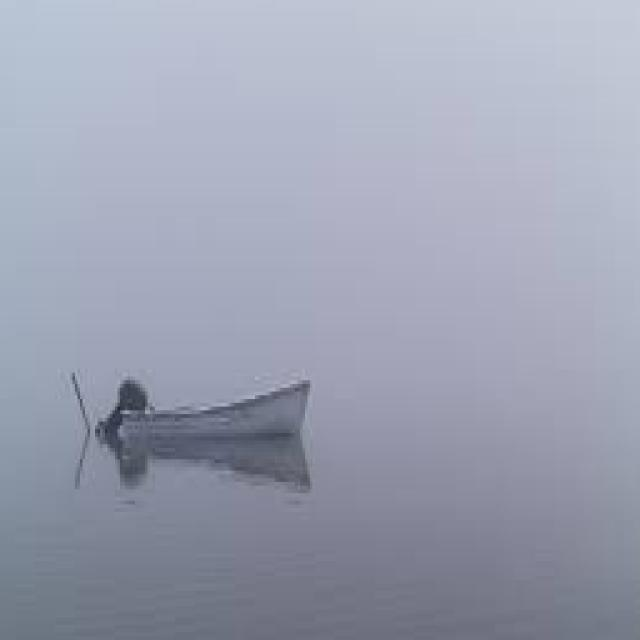fishing boat: (81, 360, 317, 450)
